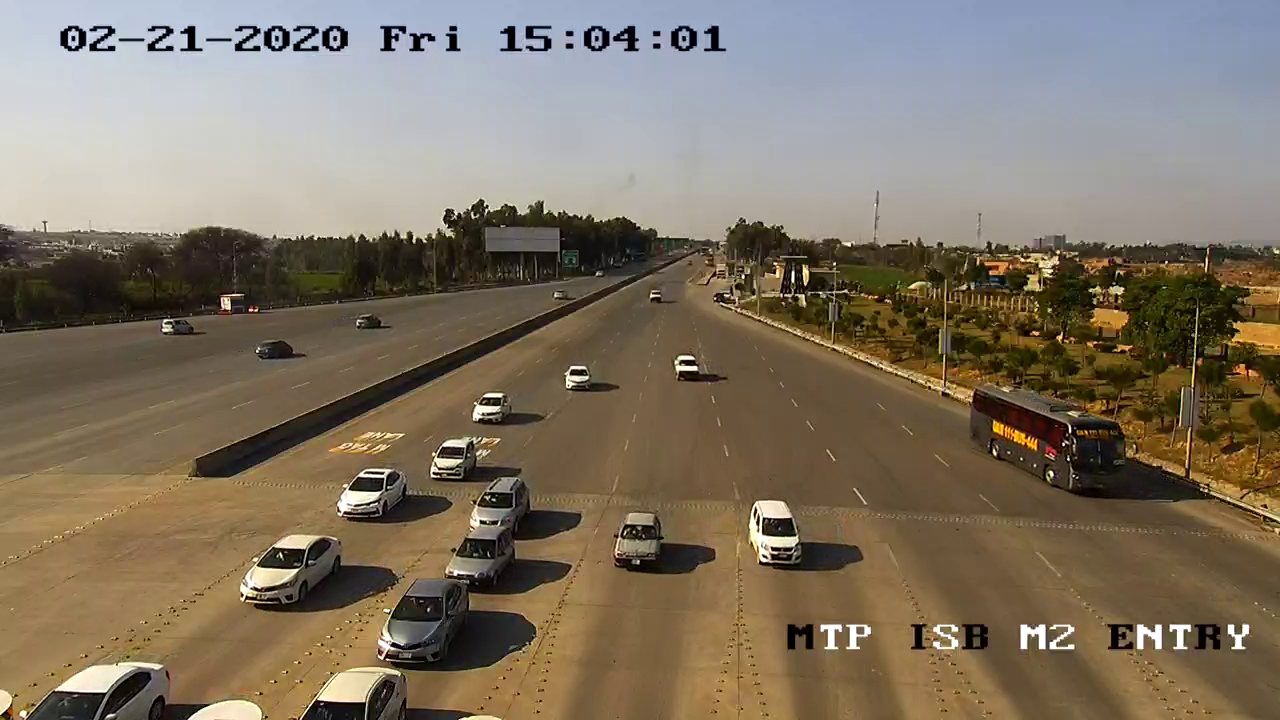f1: (229, 523, 348, 613), (374, 572, 471, 668), (737, 496, 816, 576), (462, 464, 540, 540), (439, 520, 520, 591), (333, 461, 414, 523), (608, 499, 671, 576), (420, 434, 483, 488), (468, 388, 517, 428)
f4: (959, 377, 1137, 508)
